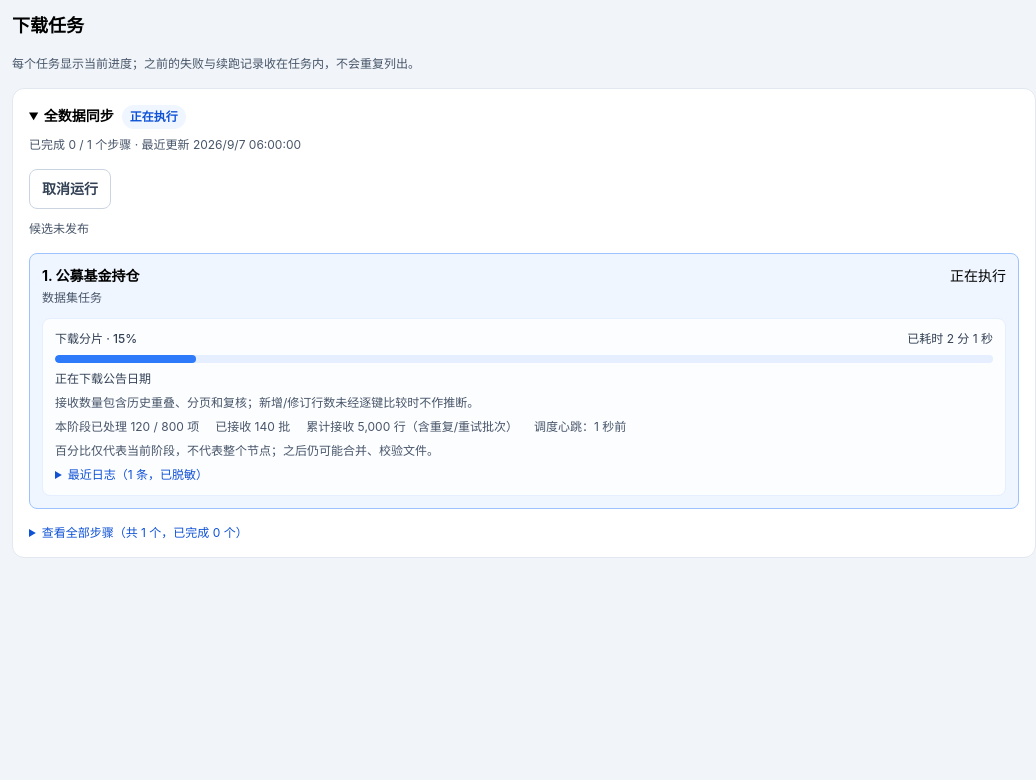
Test: 展示真实阶段百分比、累计接收、耗时和可展开日志
Expected: the text "累计接收 5,000 行（含重复/重试批次）" is shown, [306,419,518,435]
Expected: the text "已耗时 2 分 1 秒" is shown, [907,331,993,347]
Click the heading "最近日志（1 条，已脱敏）" at (138, 474), box [68,467,208,482]
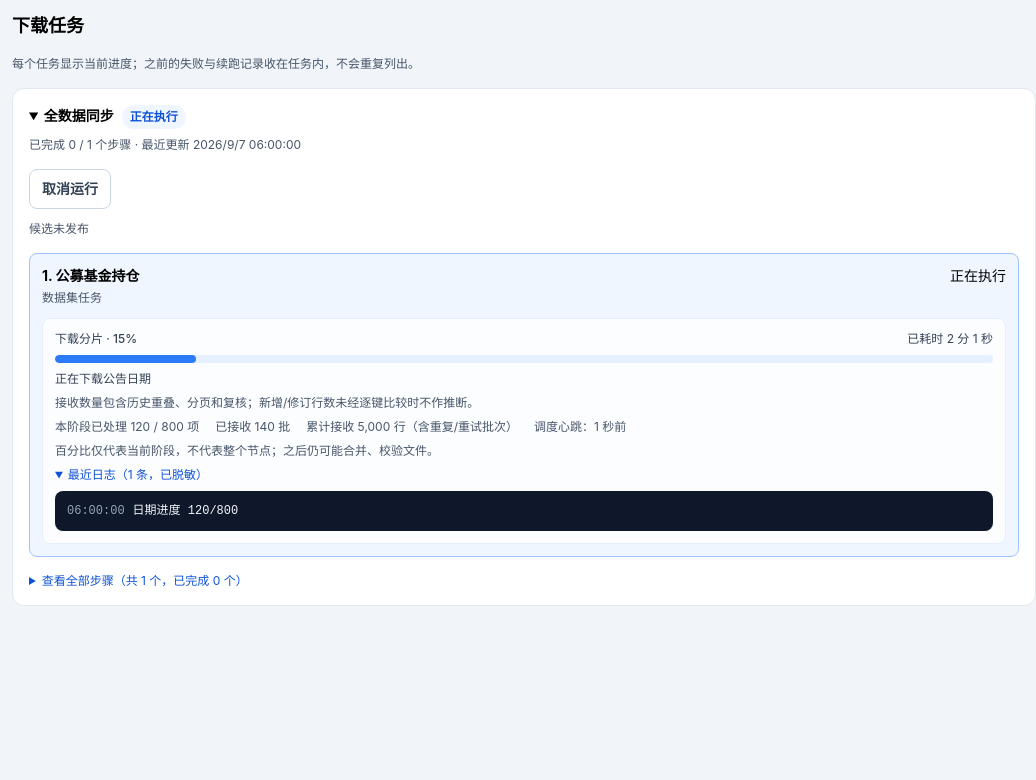
Result: the list named "最近执行日志" shows "120/800" at [133,504,238,518]
